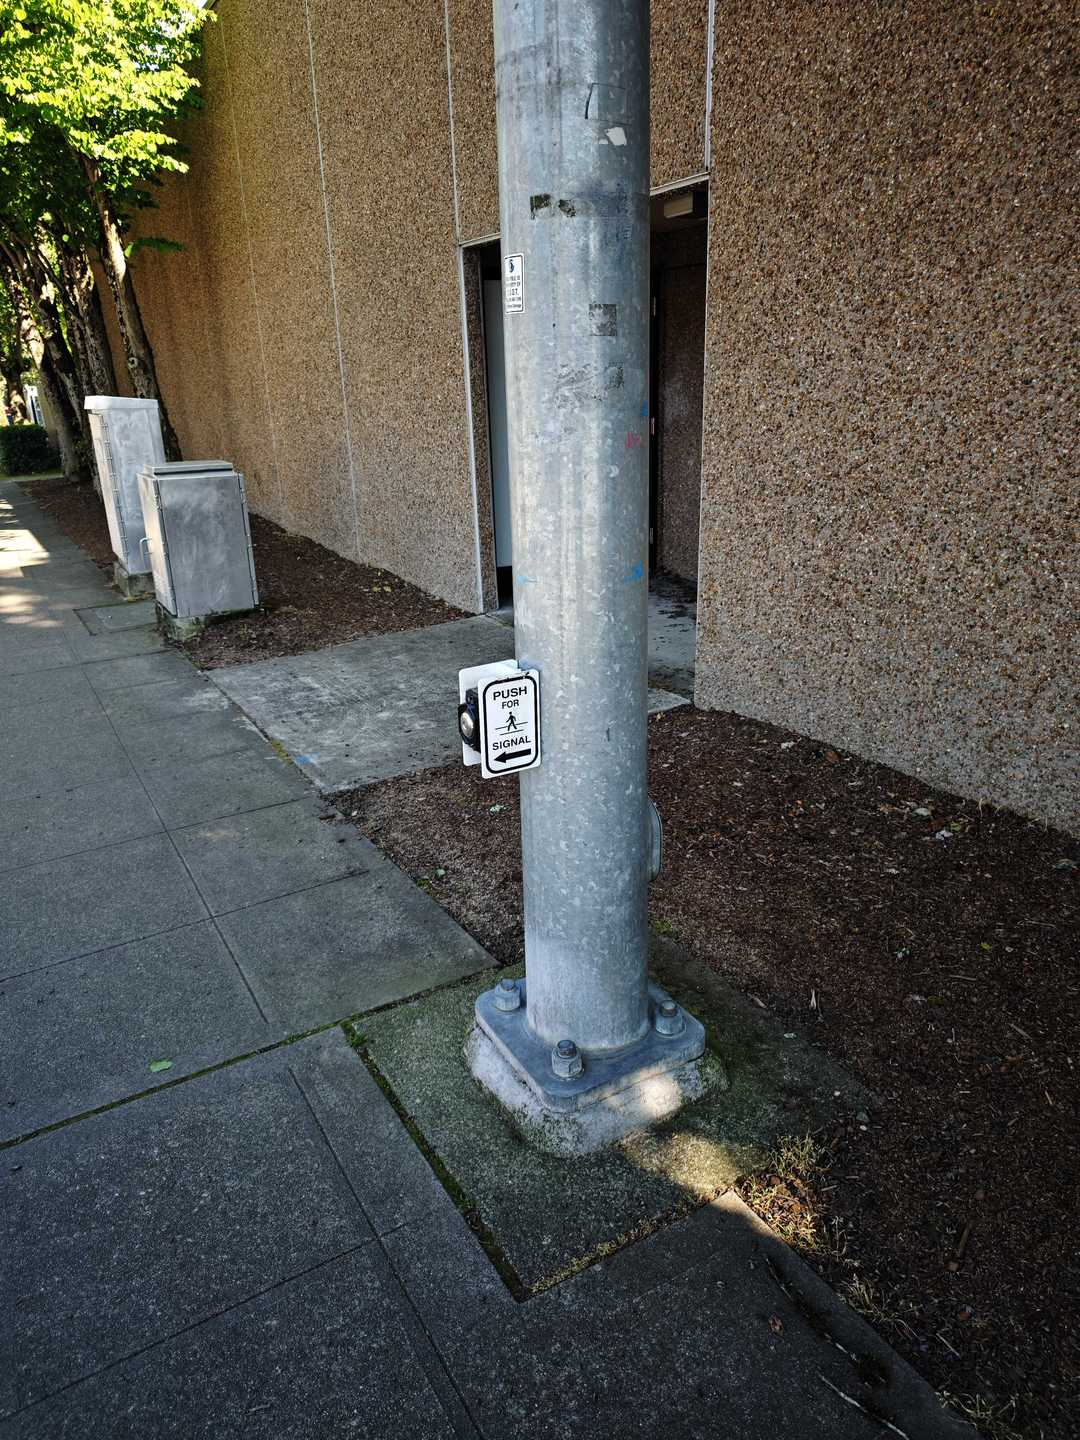ped_button: (454, 663, 545, 777)
